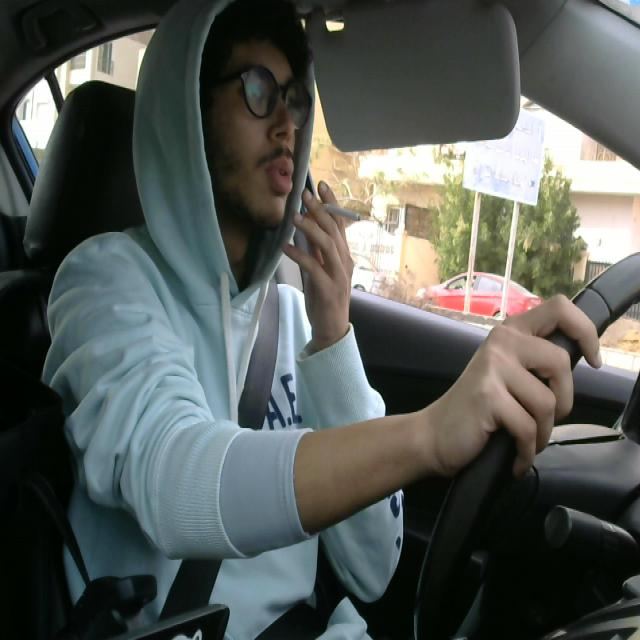smoking: (307, 191, 365, 233)
